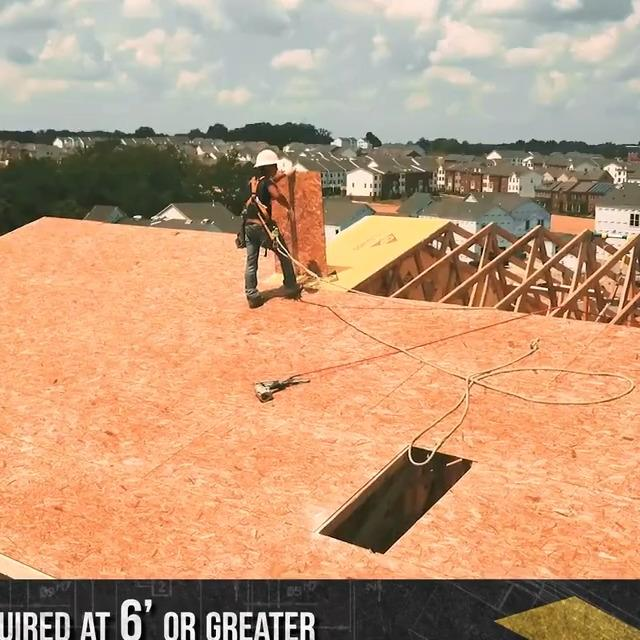Gloves: (286, 207, 295, 225), (284, 166, 296, 177)
Hardhat: (254, 149, 280, 170)
NO-Mask: (268, 169, 277, 177)
NO-Safety Vest: (246, 176, 271, 220)
Person: (243, 150, 302, 309)
